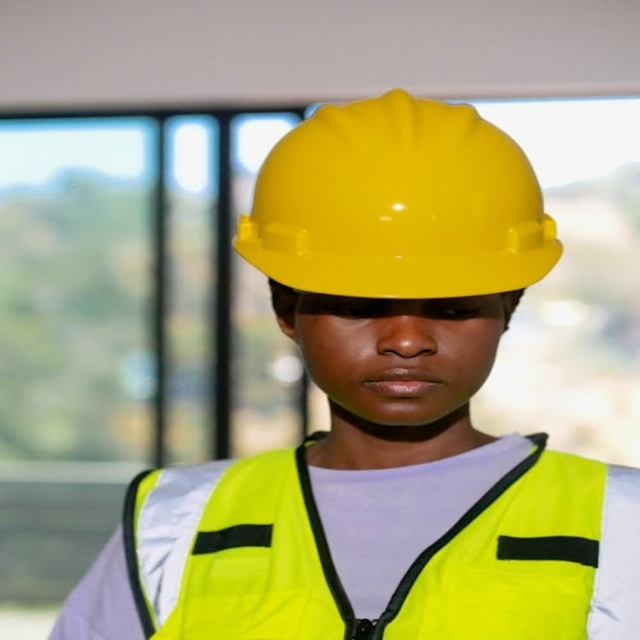Sin_gafas: (417, 301, 498, 334)
Sin_mascara: (342, 363, 456, 421)
